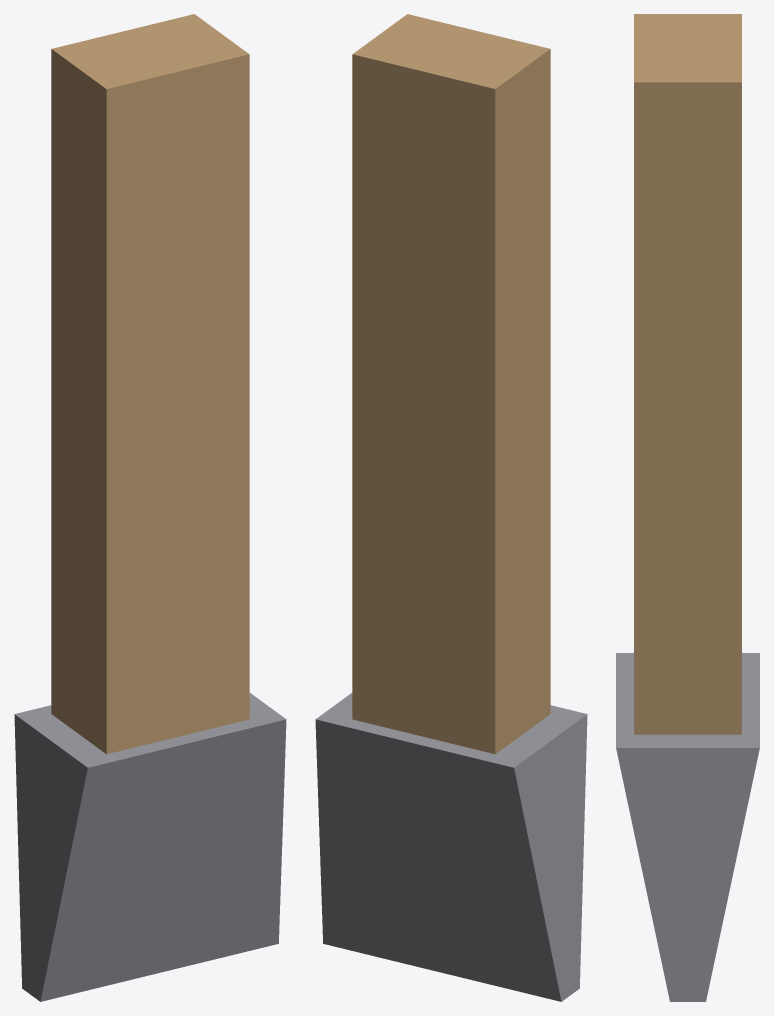
Rendered from prop-hoop-driver-hc1.fbx.
3 renders of one model, left to right at view 1: azimuth 30°, elevation 25°; view 2: azimuth 150°, elevation 25°; view 3: azimuth 270°, elevation 25°, orthographic.
Visible parts, largest first — view 1: prop-hoop-driver-hc1; view 2: prop-hoop-driver-hc1; view 3: prop-hoop-driver-hc1.
Boxes of the visible parts, x1,y1,x2,y2 form: prop-hoop-driver-hc1: (14,14,286,1001); prop-hoop-driver-hc1: (315,14,587,1001); prop-hoop-driver-hc1: (616,14,759,1001).
Bounding box in the file's own units: 6 × 22 × 3.2.
